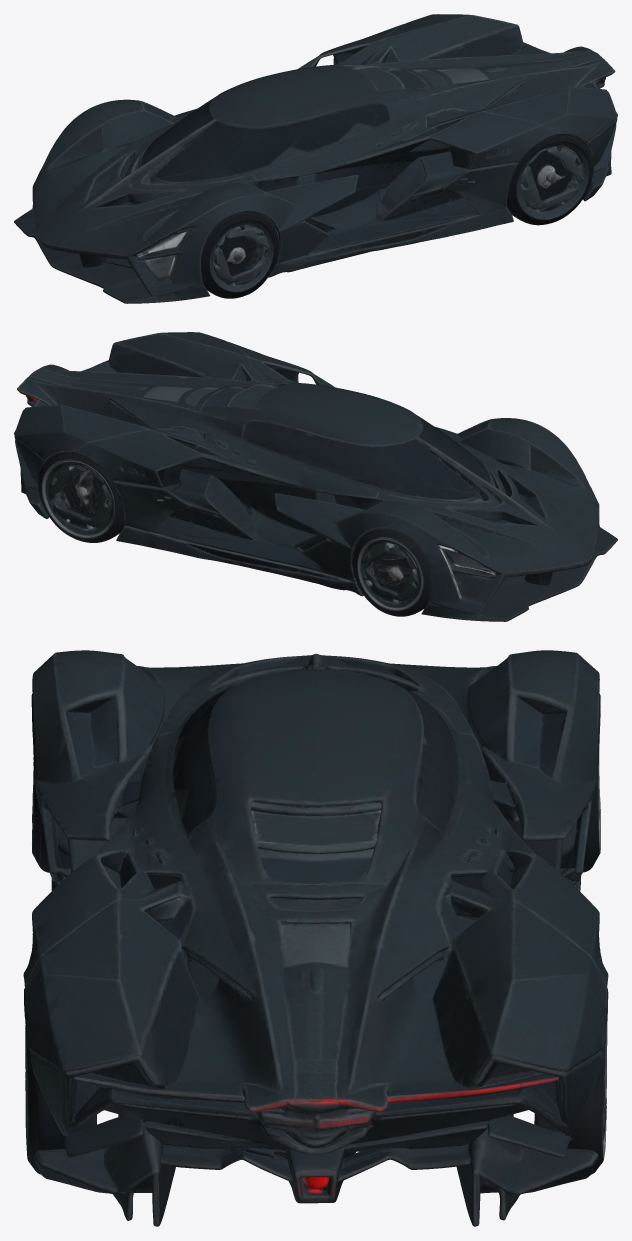
Rendered from relic-001.glb.
3 renders of one model, top to bottom at view 1: azimuth 30°, elevation 25°; view 2: azimuth 150°, elevation 25°; view 3: azimuth 270°, elevation 25°, orthographic. The views are drawn at different scales.
Bounding box in the file's own units: 1.89 × 0.4302 × 0.86.
Materials: 1 (1 with a texture image).
